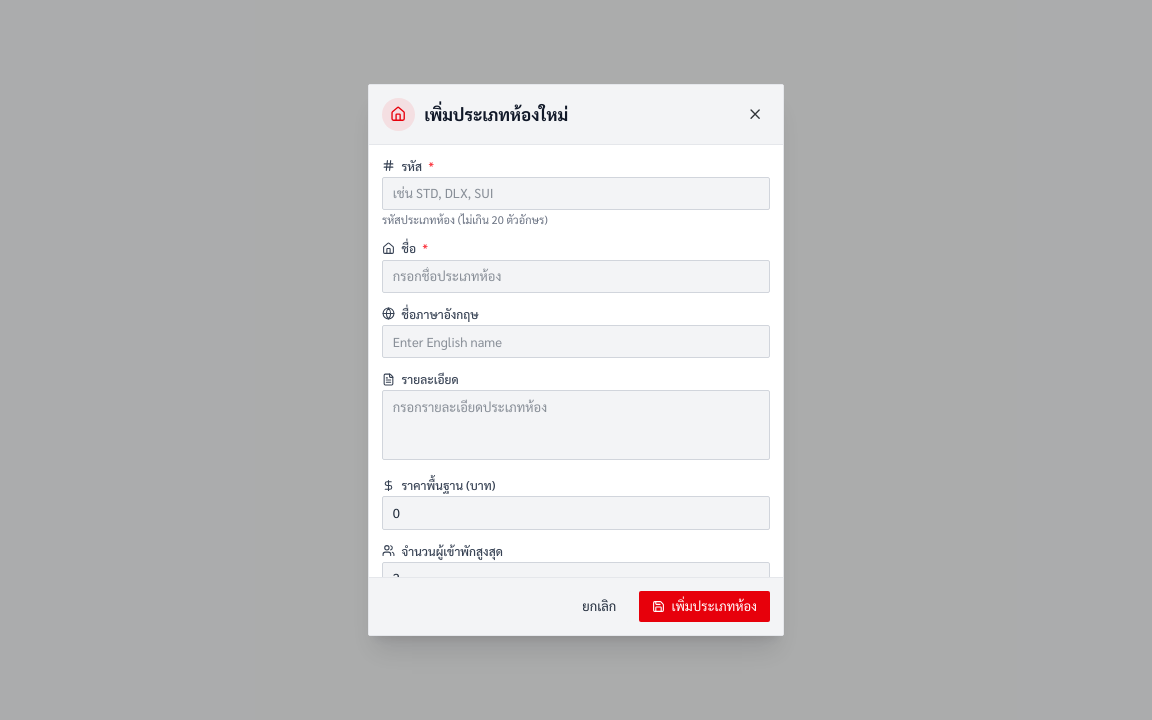
Test: RoomTypeForm Component › Form Submission › shows error message on save failure
Type "STD" into the field with placeholder "เช่น STD, DLX, SUI" at (576, 194), box [382,177,770,210]
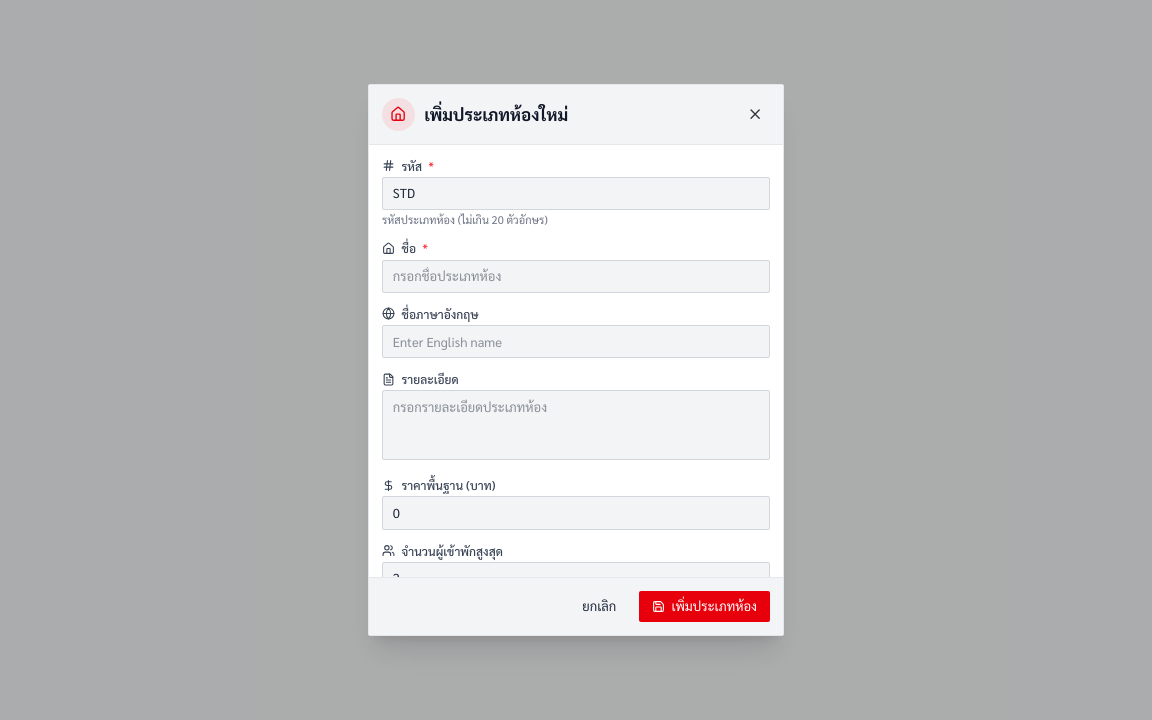
Type "Standard" into the field with placeholder "กรอกชื่อประเภทห้อง" at (576, 276), box [382,260,770,293]
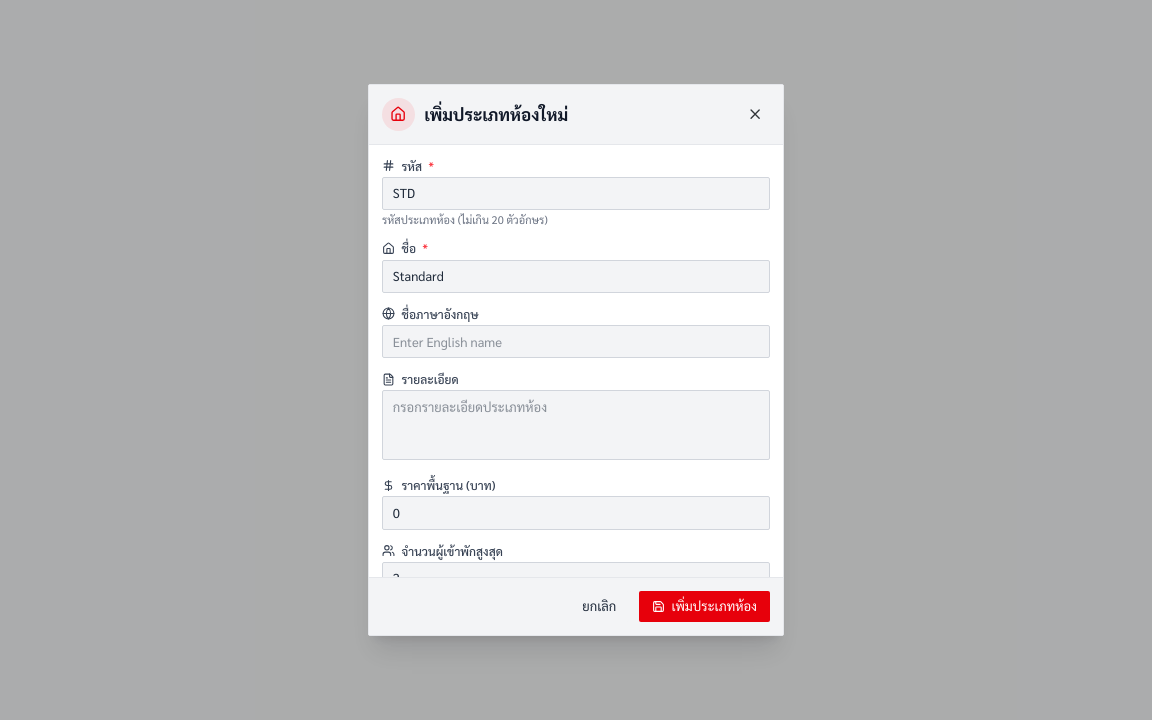
Click the button "เพิ่มประเภทห้อง" at (704, 606), box [639,591,770,622]
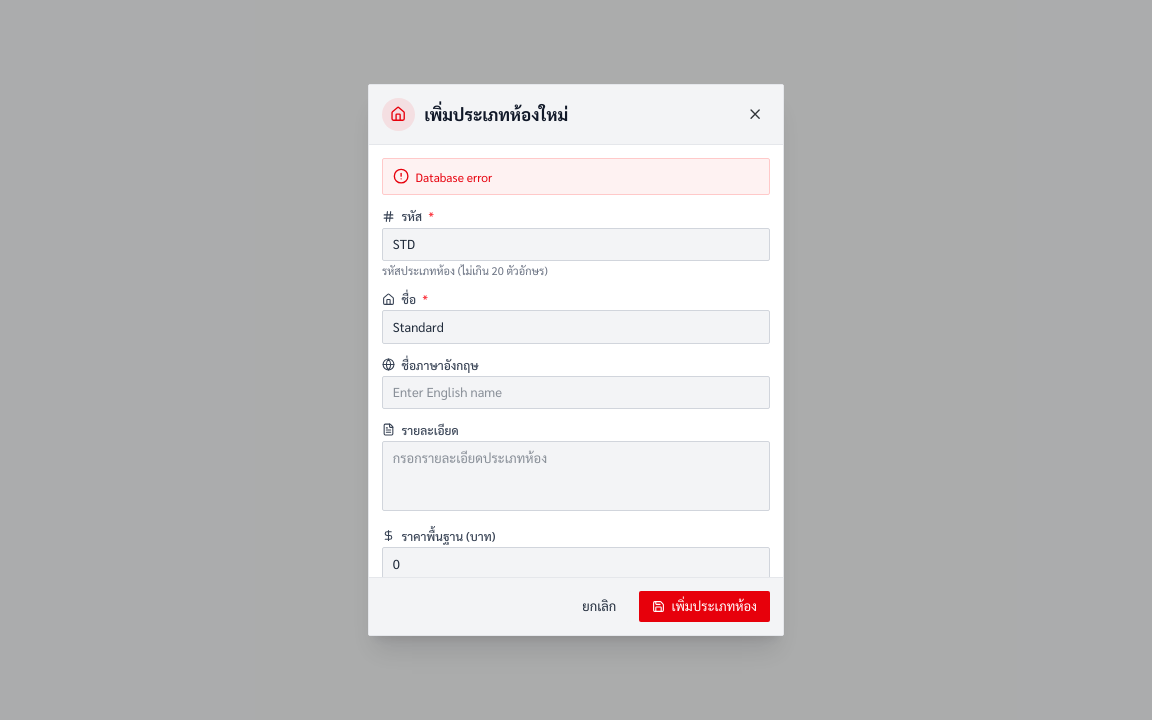
Now the text "Database error" is shown, box [416,168,492,184]
